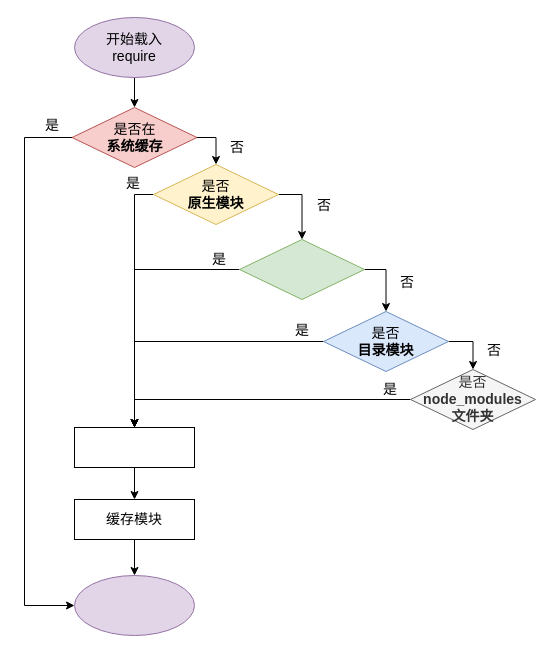
Some shapes in this 553 by 653 pixel diagram are drawn without their labels. Here are the shapes that lost their labels. From the top down, the centre of each, then its label:
At point (301, 269): "是否 文件模块".
At point (134, 447): "加载模块".
At point (134, 605): "读取返回 exports".
